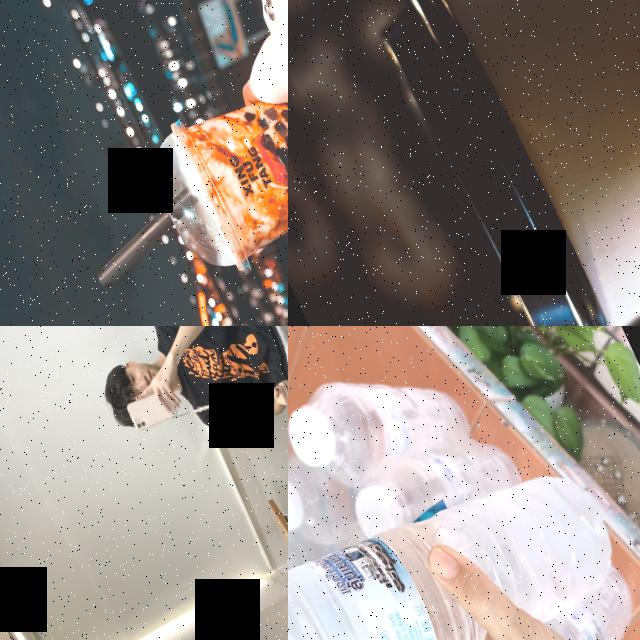bottle: (288, 435, 640, 640)
cup: (351, 0, 640, 326), (132, 66, 288, 286)
